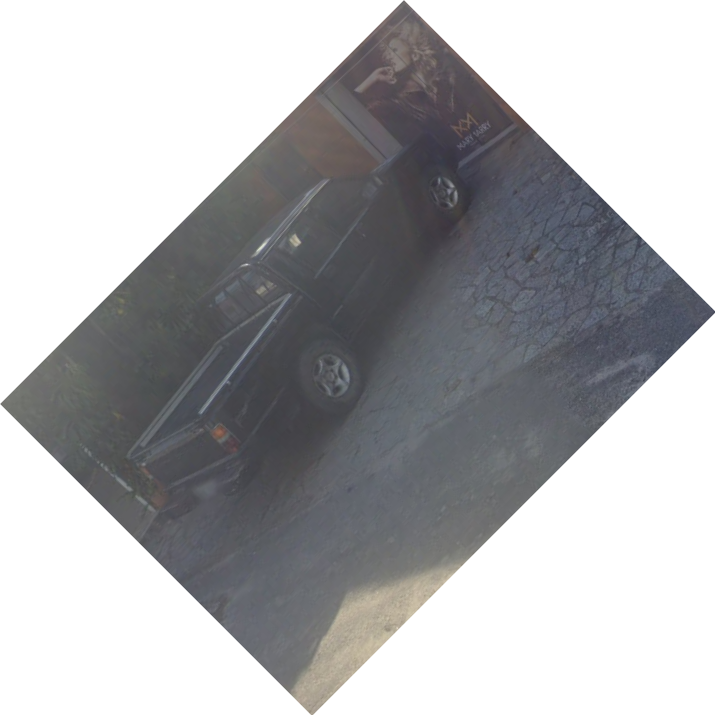car: (124, 128, 472, 510)
